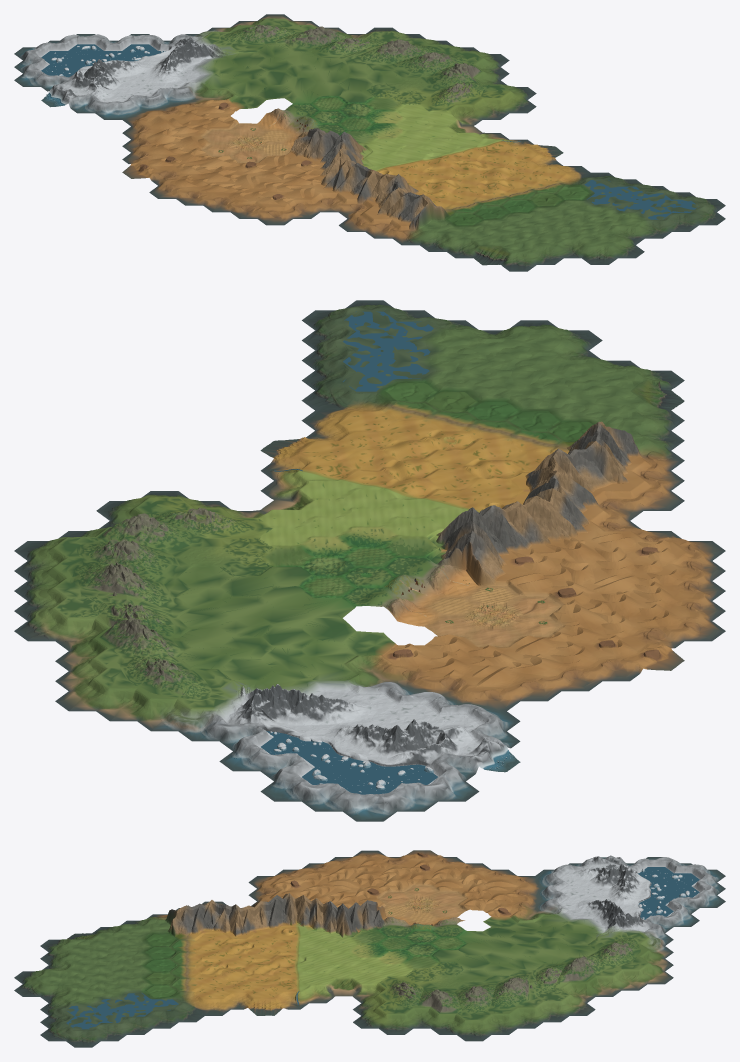
The model's file is horizonte-272-v01.glb.
3 views of the same model, one above another, from view 1: azimuth 30°, elevation 25°; view 2: azimuth 150°, elevation 25°; view 3: azimuth 270°, elevation 25° (orthographic). The views are drawn at different scales.
Parts seen in each view (by area): view 1: H_MN2_05_terrain_0_L3, H_MN2_08_terrain_0_L3, H_JS_-3_10_terrain_0_L3, H_MN2_06_terrain_0_L3, H_MN2_02_terrain_0_L3, H_MN2_01_terrain_0_L3, H_WG_09_terrain_0_L3, H_MN2_04_terrain_0_L3, H_costa_-04_+10_terrain_0_L3, H_costa_+07_+02_terrain_0_L3, H_ER_07_terrain_0_L3, H_costa_-04_+12_terrain_0_L3 (+52 smaller); view 2: H_MN2_03_terrain_0_L3, H_MN2_01_terrain_0_L3, H_WG_13_terrain_0_L3, H_WG_10_terrain_0_L3, H_MN2_02_terrain_0_L3, H_MN2_04_terrain_0_L3, H_MN2_07_terrain_0_L3, H_costa_+09_-09_terrain_0_L3, H_costa_+08_-09_terrain_0_L3, H_ER_13_terrain_0_L3, H_costa_+07_-09_terrain_0_L3, H_ER_02_terrain_0_L3 (+171 smaller); view 3: H_MW_04_terrain_0_L3, H_MW_07_terrain_0_L3, H_MW_05_terrain_0_L3, H_MW_08_terrain_0_L3, H_MW_03_terrain_0_L3, H_MW_06_terrain_0_L3, H_MW_01_terrain_0_L3, H_MW_02_terrain_0_L3, H_costa_+11_-02_terrain_0_L3, H_costa_+11_-05_terrain_0_L3, H_costa_+11_-04_terrain_0_L3, H_costa_+10_-07_terrain_0_L3 (+172 smaller).
Part boxes in pixels (x1,y1,x2,y2): H_MN2_05_terrain_0_L3: (338, 163, 374, 198); H_MN2_08_terrain_0_L3: (393, 192, 428, 225); H_JS_-3_10_terrain_0_L3: (419, 200, 455, 232); H_MN2_06_terrain_0_L3: (365, 174, 401, 205); H_MN2_02_terrain_0_L3: (312, 130, 345, 166); H_MN2_01_terrain_0_L3: (286, 128, 319, 160); H_WG_09_terrain_0_L3: (176, 38, 211, 69); H_MN2_04_terrain_0_L3: (311, 161, 347, 192); H_costa_-04_+10_terrain_0_L3: (392, 214, 427, 245); H_costa_+07_+02_terrain_0_L3: (474, 98, 509, 119); H_ER_07_terrain_0_L3: (284, 29, 320, 51); H_costa_-04_+12_terrain_0_L3: (447, 238, 482, 258); H_MN2_03_terrain_0_L3: (508, 497, 561, 551); H_MN2_01_terrain_0_L3: (466, 532, 520, 586); H_WG_13_terrain_0_L3: (260, 691, 314, 737); H_WG_10_terrain_0_L3: (384, 722, 437, 766); H_MN2_02_terrain_0_L3: (470, 505, 520, 561); H_MN2_04_terrain_0_L3: (550, 491, 602, 541); H_MN2_07_terrain_0_L3: (589, 442, 643, 490); H_costa_+09_-09_terrain_0_L3: (96, 688, 150, 721); H_costa_+08_-09_terrain_0_L3: (137, 698, 191, 731); H_ER_13_terrain_0_L3: (96, 565, 150, 604); H_costa_+07_-09_terrain_0_L3: (178, 708, 232, 741); H_ER_02_terrain_0_L3: (137, 663, 191, 698); H_MW_04_terrain_0_L3: (274, 893, 308, 927); H_MW_07_terrain_0_L3: (196, 900, 230, 933); H_MW_05_terrain_0_L3: (248, 901, 282, 933); H_MW_08_terrain_0_L3: (170, 907, 204, 940); H_MW_03_terrain_0_L3: (301, 900, 334, 932); H_MW_06_terrain_0_L3: (222, 905, 256, 940); H_MW_01_terrain_0_L3: (353, 900, 386, 931); H_MW_02_terrain_0_L3: (327, 903, 360, 938); H_costa_+11_-02_terrain_0_L3: (457, 1020, 490, 1041); H_costa_+11_-05_terrain_0_L3: (535, 1001, 569, 1022); H_costa_+11_-04_terrain_0_L3: (509, 1007, 543, 1028); H_costa_+10_-07_terrain_0_L3: (587, 975, 621, 996).
Bounding box in the file's own units: 67117 × 5053 × 102500.
